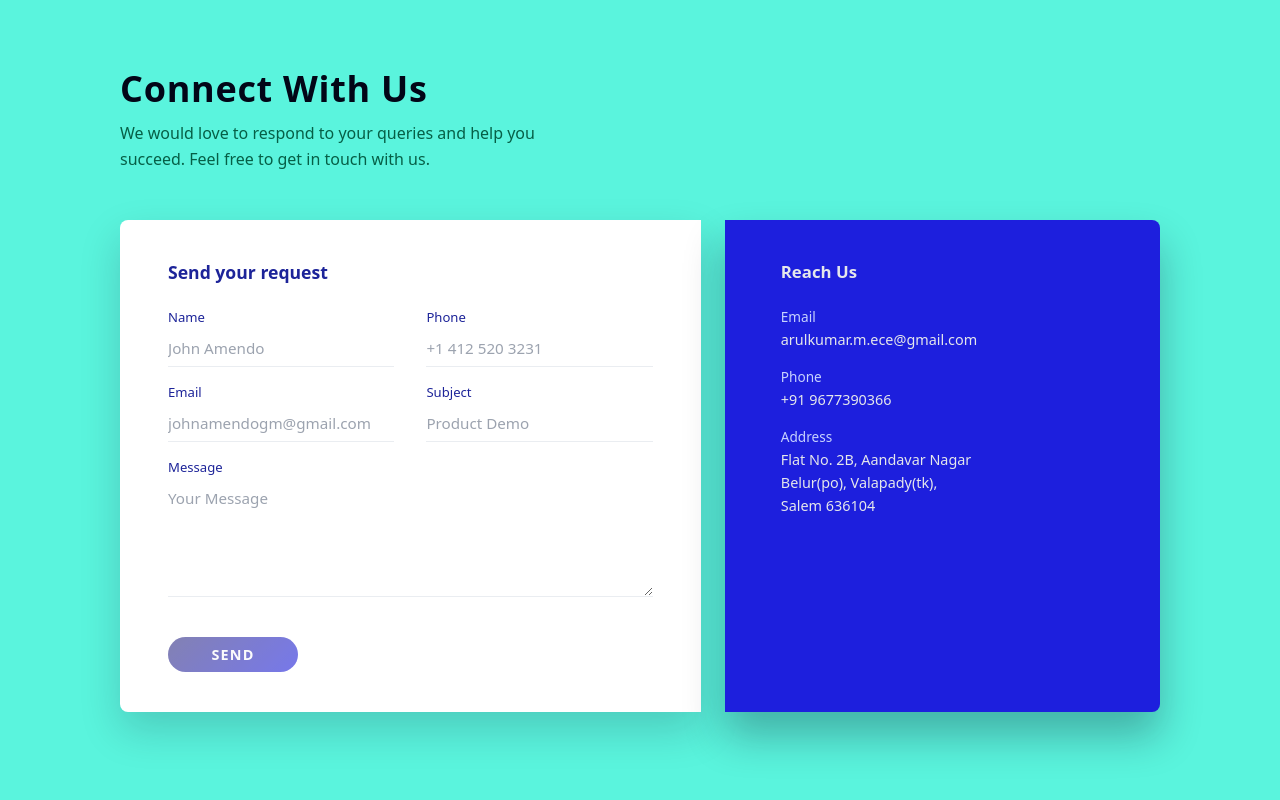
Test: ContactPage validation › shows validation errors on blur for required fields
Step 1. Click the field labelled "Name" → coordinates (281, 349), box [168, 330, 394, 367]
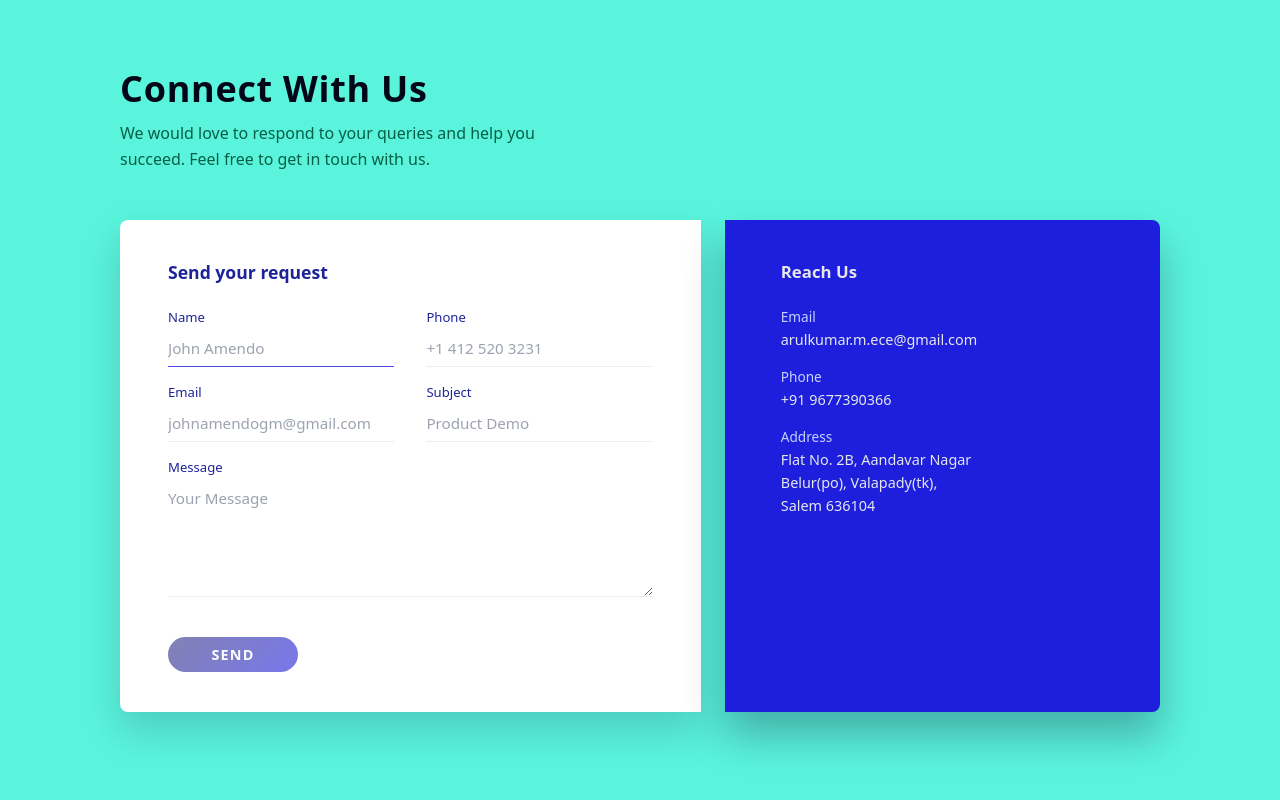
Step 2. Press Tab
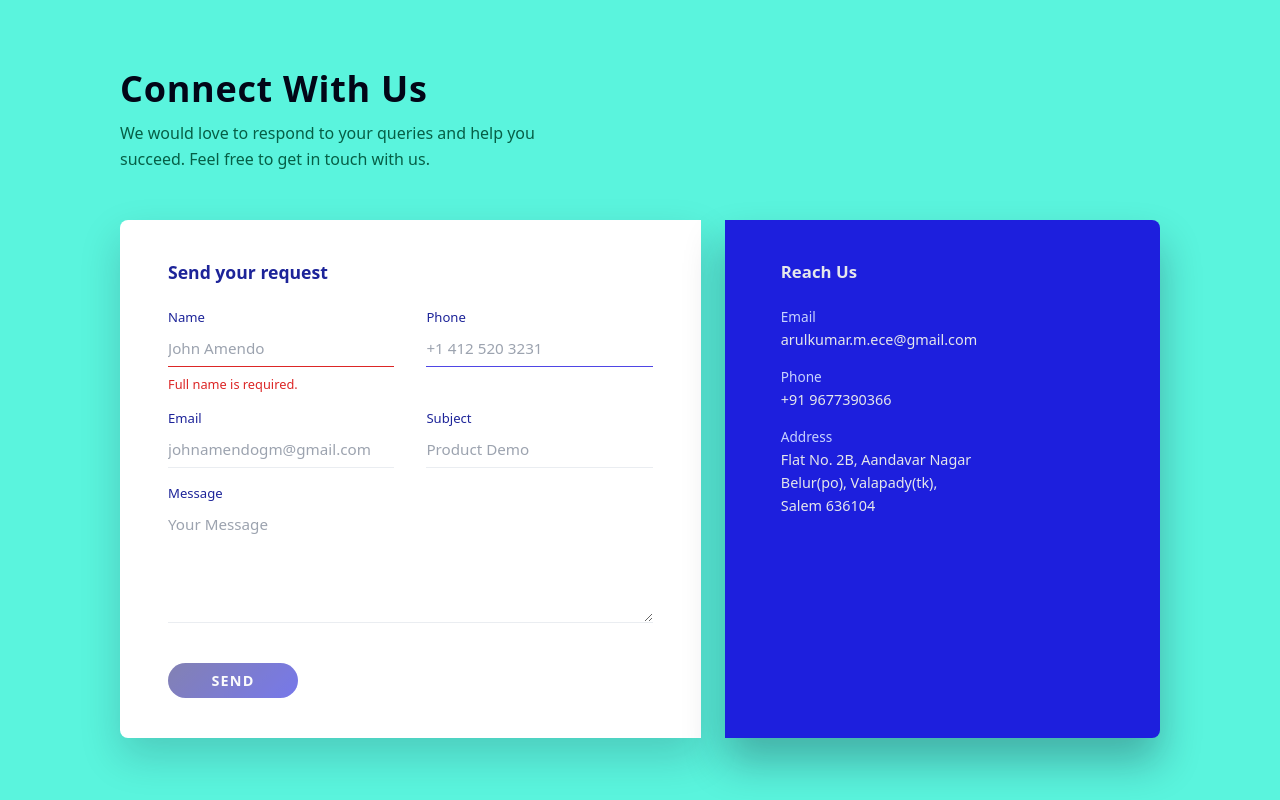
Step 3. Click the field labelled "Email" → coordinates (281, 450), box [168, 431, 394, 468]
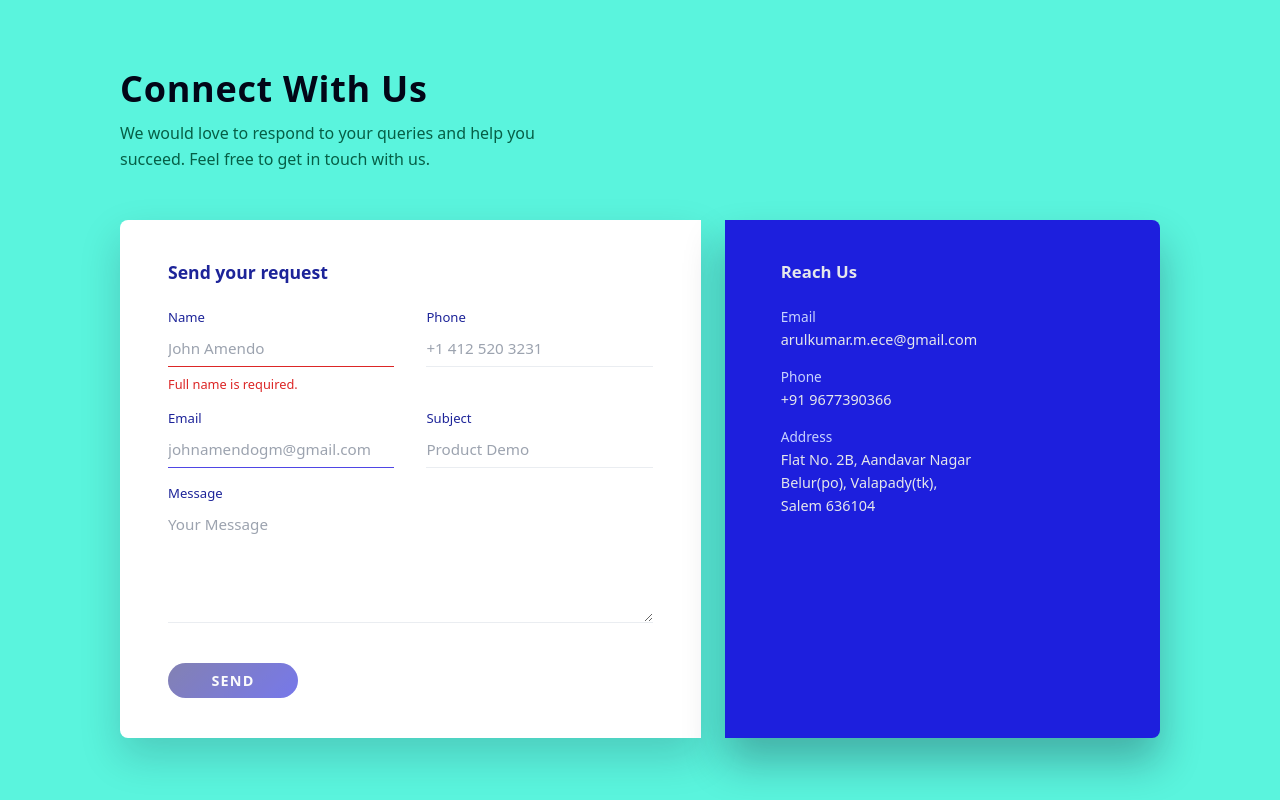
Step 4. Press Tab
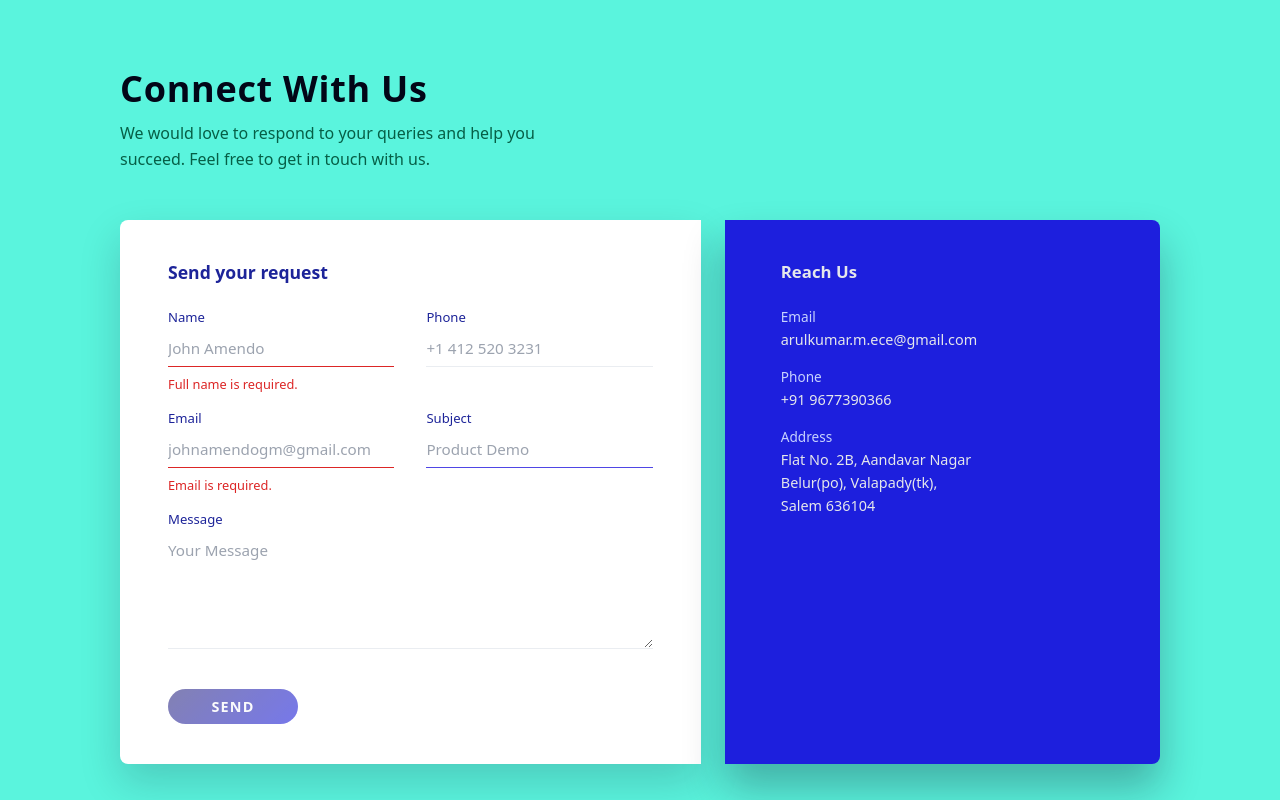
Step 5. Click the text box labelled "Message" → coordinates (410, 591), box [168, 532, 653, 649]
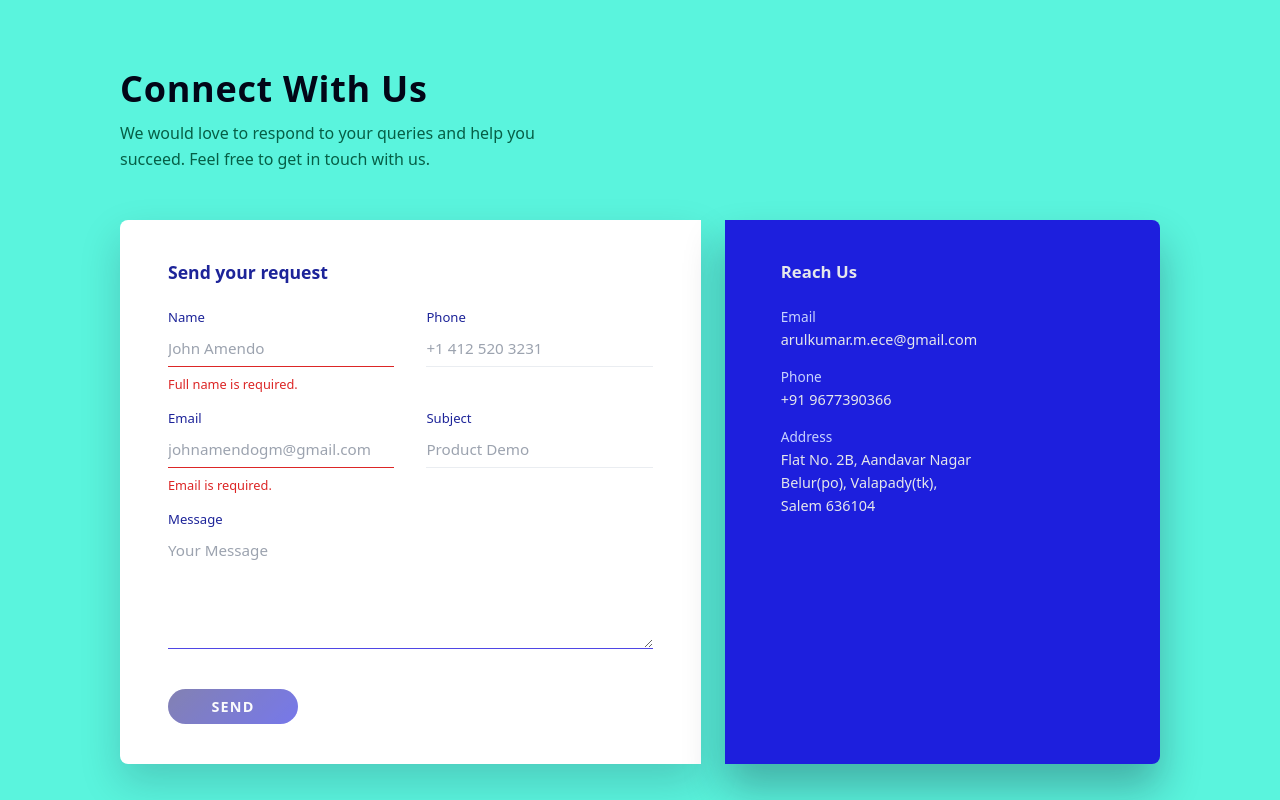
Step 6. Press Tab
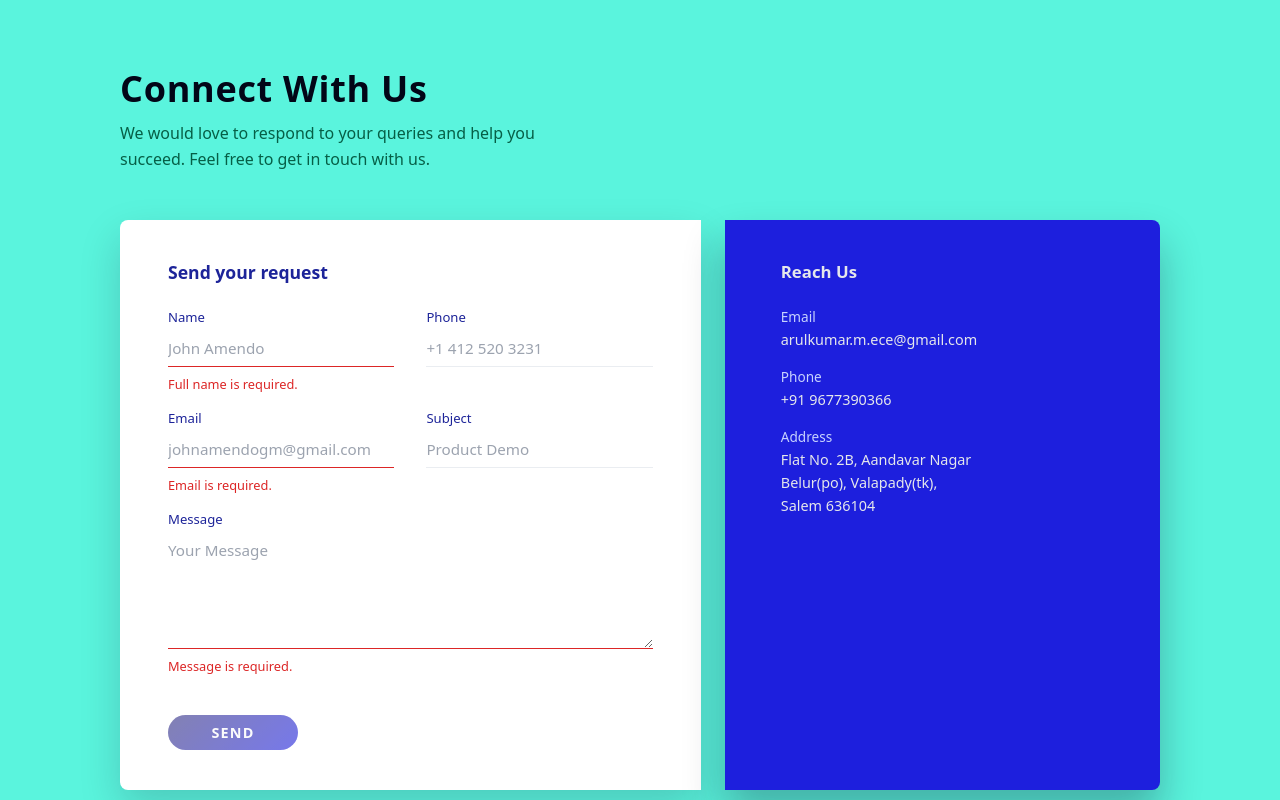
Expected: the text "Full name is required." is shown, [168, 375, 298, 393]
Expected: the text "Email is required." is shown, [168, 476, 272, 494]
Expected: the text "Message is required." is shown, [168, 657, 292, 675]
